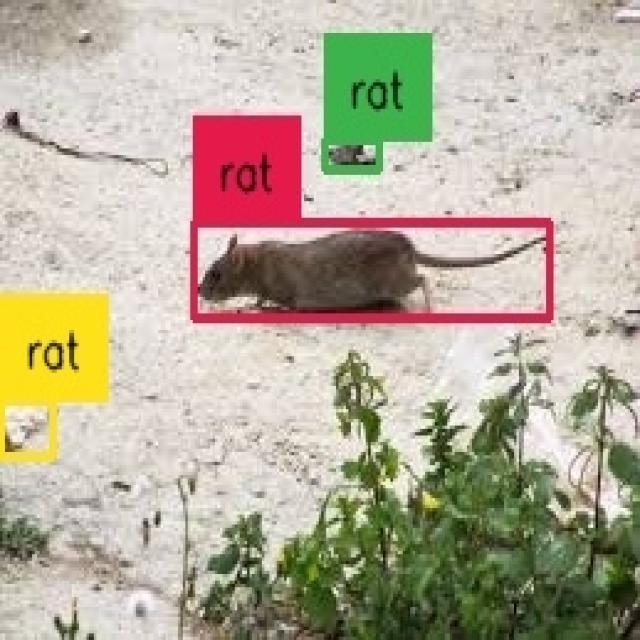rat: (195, 224, 549, 320), (0, 402, 52, 456), (326, 138, 378, 172)
